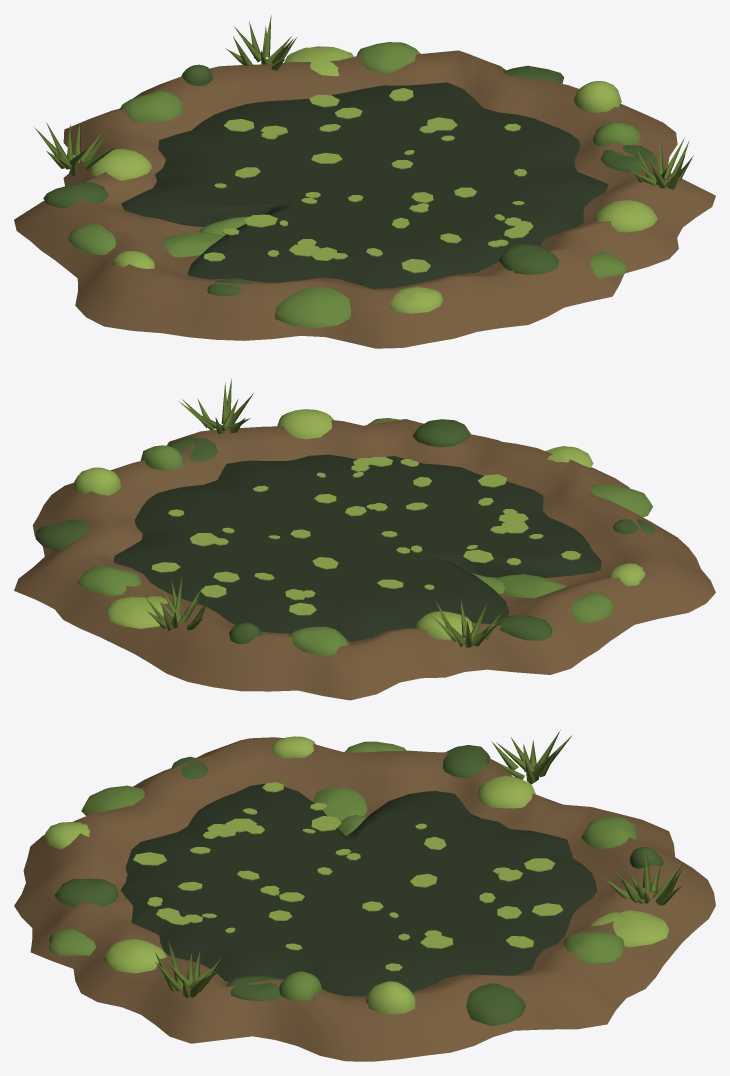
File: detail_bog_pool.glb
The picture shows the model from 3 angles, top to bottom: view 1: azimuth 30°, elevation 25°; view 2: azimuth 150°, elevation 25°; view 3: azimuth 270°, elevation 25°; orthographic projection. The views are drawn at different scales.
Parts seen in each view (by area): view 1: plaster, object 2; view 2: plaster, object 2; view 3: plaster, object 2.
Part boxes in pixels (<box>): plaster: <box>14,15,715,348</box>; object 2: <box>121,82,608,288</box>; plaster: <box>14,379,715,700</box>; object 2: <box>113,454,601,641</box>; plaster: <box>14,730,715,1061</box>; object 2: <box>120,783,597,996</box>.
Size of the model in its own units: 1.4 by 0.14 by 1.3.
